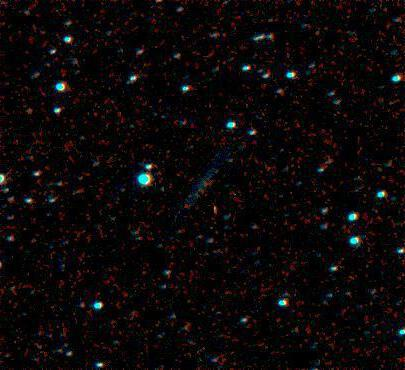star: (198, 188, 228, 218)
